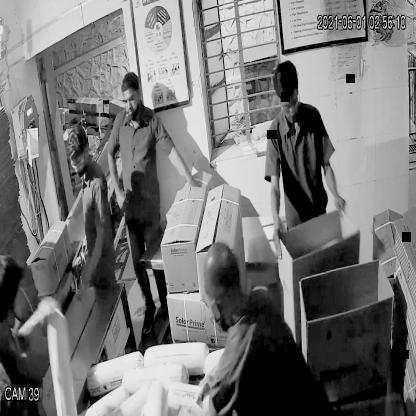goggles: (277, 90, 302, 119), (68, 152, 89, 175)
